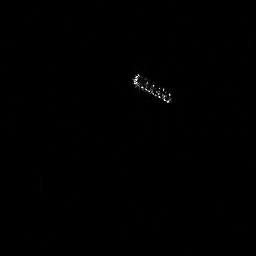ship: (129, 70, 176, 106)
